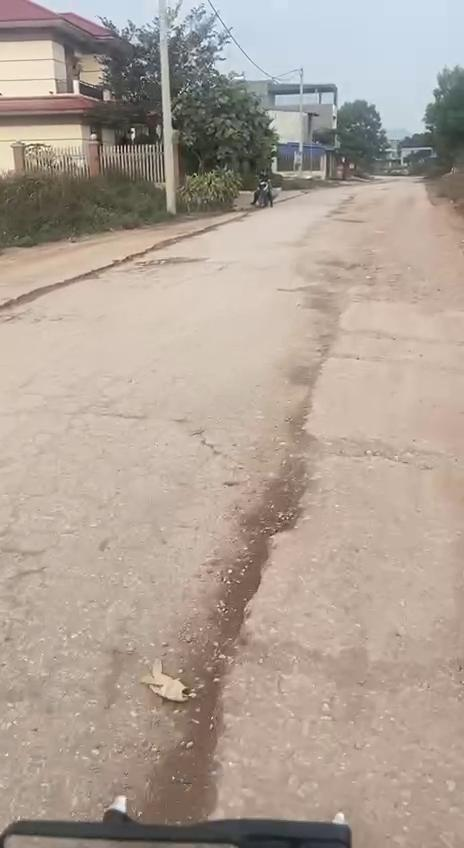pothole: (123, 439, 321, 838)
